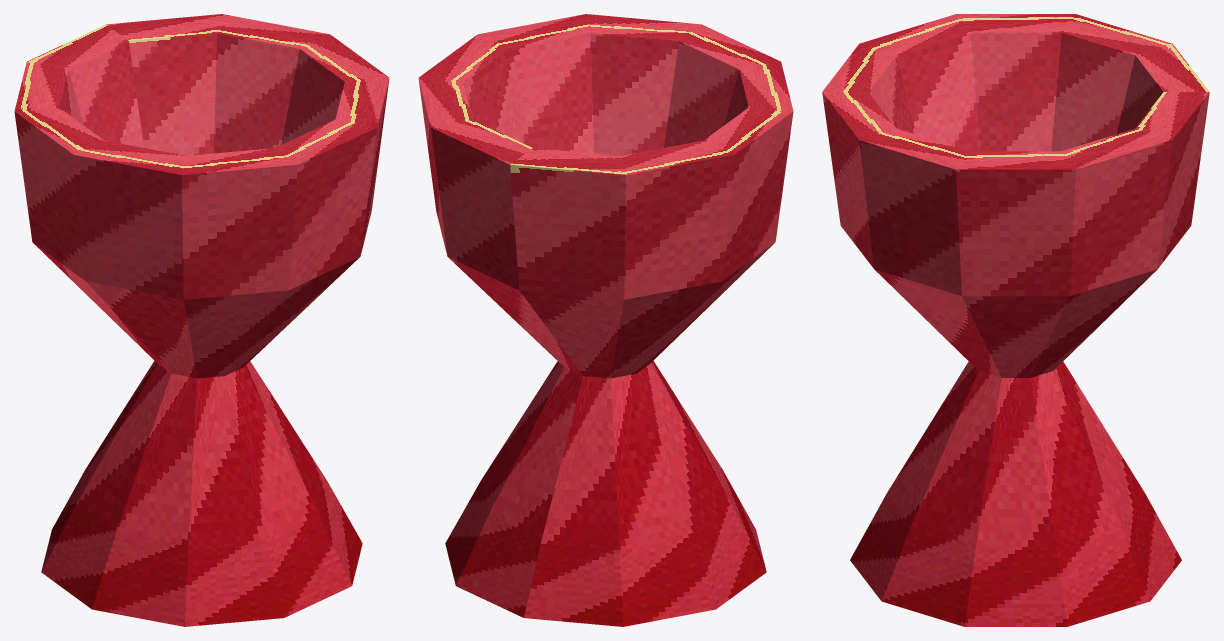
Rendered from reliquia_endgame_04_calice_de_sangue.glb.
3 views of the same model, side by side, from view 1: azimuth 30°, elevation 25°; view 2: azimuth 150°, elevation 25°; view 3: azimuth 270°, elevation 25° (orthographic).
Visible parts, largest first — view 1: reliquia_endgame_04_calice_de_sangue; view 2: reliquia_endgame_04_calice_de_sangue; view 3: reliquia_endgame_04_calice_de_sangue.
Boxes of the visible parts, bbox=[...] form: reliquia_endgame_04_calice_de_sangue: bbox=[14, 14, 389, 626]; reliquia_endgame_04_calice_de_sangue: bbox=[418, 14, 793, 626]; reliquia_endgame_04_calice_de_sangue: bbox=[822, 14, 1209, 626].
Size of the model in its own units: 0.3994 by 0.56 by 0.42.
1 material, 1 textured.
